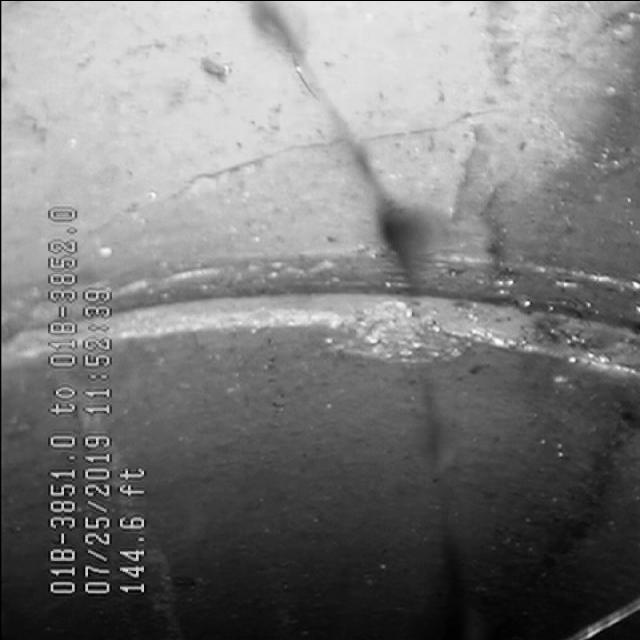Crack: (117, 106, 487, 210)
